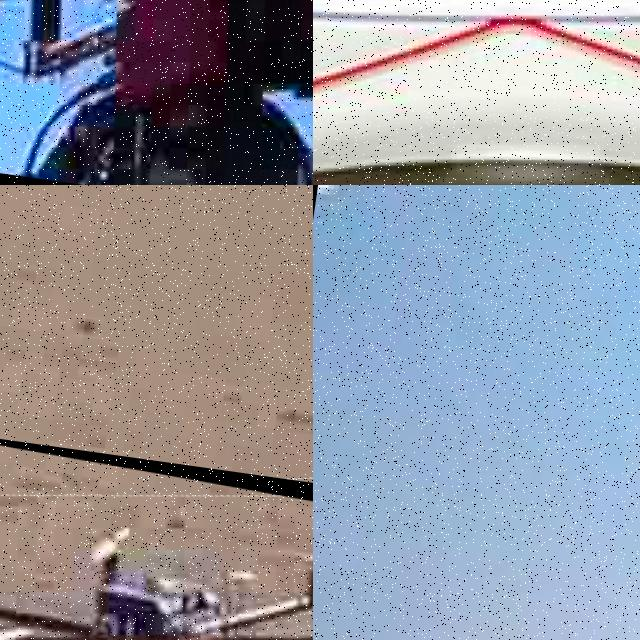0: (0, 414, 313, 640), (0, 0, 313, 185)
drone: (313, 0, 640, 185)
